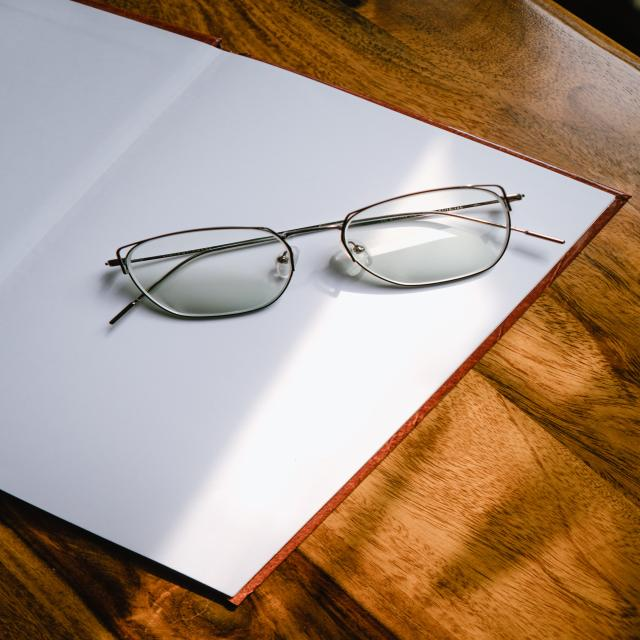Glass: (318, 184, 525, 280), (102, 226, 296, 316)
